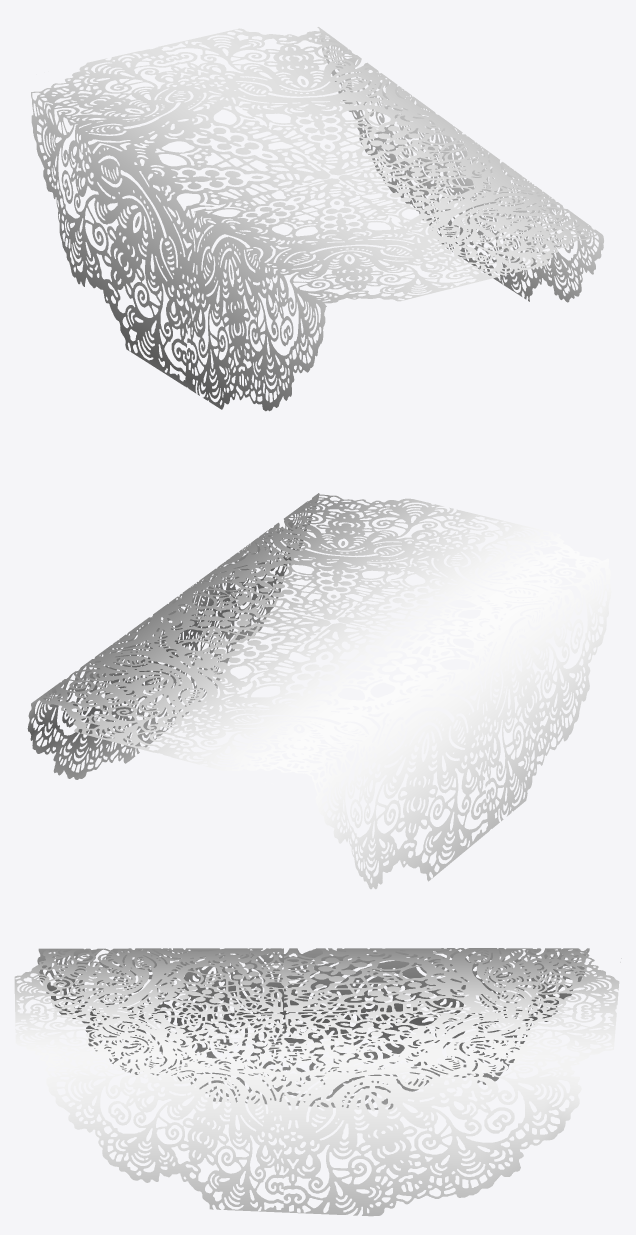
Rendered from Doilie_Table.fbx.
3 renders of one model, top to bottom at view 1: azimuth 30°, elevation 25°; view 2: azimuth 150°, elevation 25°; view 3: azimuth 270°, elevation 25°, orthographic. The views are drawn at different scales.
Parts seen in each view (by area): view 1: Plane.006; view 2: Plane.006; view 3: Plane.006.
Part boxes in pixels (x1,y1,x2,y2): Plane.006: [31, 27, 603, 411]; Plane.006: [27, 493, 611, 889]; Plane.006: [14, 948, 621, 1216].
Size of the model in its own units: 92.25 by 52.36 by 169.
